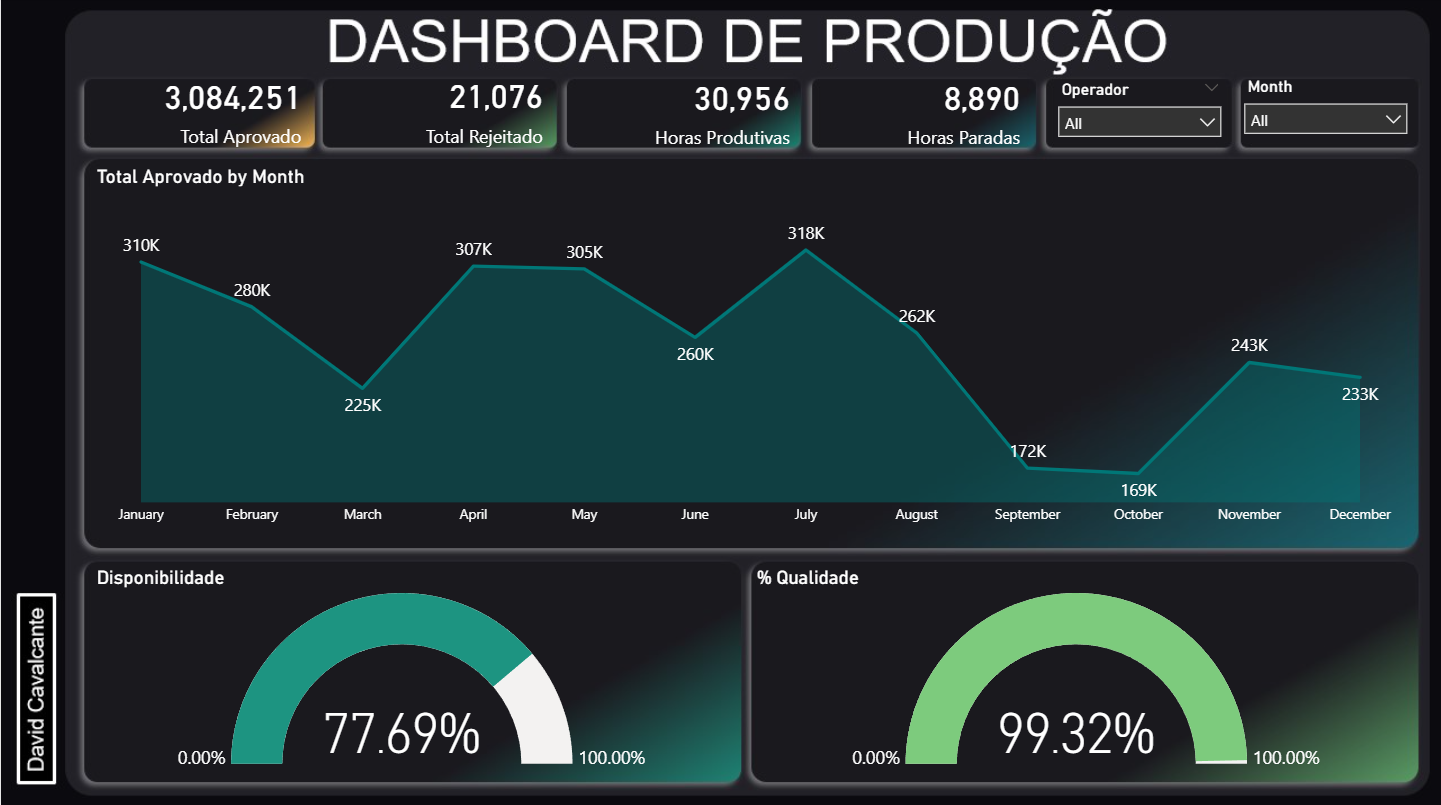

Layout of this report page (visuals, bound fields, positions):
{"tool":"powerbi","page":{"name":"Page 1","canvas":[1280,720],"ordinal":0},"visuals":[{"type":"cardVisual","fields":{"Data":["BaseProdução.Total Aprovado"]},"box":[64.9,46.2,219.6,112],"z":0},{"type":"cardVisual","fields":{"Data":["BaseProdução.Total Rejeitado"]},"box":[266.7,35.6,232,132.4],"z":1000},{"type":"cardVisual","fields":{"Data":["BaseProdução.Horas Produtivas"]},"box":[510.2,55.1,208.9,93.3],"z":2000},{"type":"cardVisual","fields":{"Data":["BaseProdução.Horas Paradas"]},"box":[752.9,55.1,170.7,86.2],"z":3000},{"type":"areaChart","fields":{"Y":["BaseProdução.Total Aprovado"],"Category":["BaseProdução.Data Inicio.Variation.Date Hierarchy.Month"]},"box":[80,148.4,1172.4,328.9],"z":4000},{"type":"gauge","fields":{"Y":["BaseProdução.Disponibilidade"]},"box":[80,504.9,569.8,185.8],"z":5000},{"type":"gauge","fields":{"Y":["BaseProdução.% Qualidade"]},"box":[666.7,504.9,595.6,185.8],"z":6000},{"type":"slicer","fields":{"Values":["BaseProdução.Operador"]},"box":[929.8,68.4,165.3,72.9],"z":7000},{"type":"slicer","fields":{"Values":["BaseProdução.Data Inicio.Variation.Date Hierarchy.Month"]},"box":[1095.1,65.8,165.3,72.9],"z":8000},{"type":"image","box":[740,77.3,57.3,55.5],"z":9000},{"type":"image","box":[520.9,77.3,56.4,53.6],"z":10000},{"type":"image","box":[98.2,75.5,50,53.6],"z":11000},{"type":"image","box":[308.2,76.4,46.4,57.3],"z":12000}]}

Visuals, with their boxes in screenshot pixels (x1, y1, x2, y2), scaled from the page's 1280x720 canvas onto the 1441x805 screenshot:
cardVisual - BaseProdução.Total Aprovado: Rect(73, 52, 320, 177)
cardVisual - BaseProdução.Total Rejeitado: Rect(300, 40, 561, 188)
cardVisual - BaseProdução.Horas Produtivas: Rect(574, 62, 810, 166)
cardVisual - BaseProdução.Horas Paradas: Rect(848, 62, 1040, 158)
areaChart - BaseProdução.Total Aprovado x BaseProdução.Data Inicio.Variation.Date Hierarchy.Month: Rect(90, 166, 1410, 534)
gauge - BaseProdução.Disponibilidade: Rect(90, 565, 732, 772)
gauge - BaseProdução.% Qualidade: Rect(751, 565, 1421, 772)
slicer - BaseProdução.Operador: Rect(1047, 76, 1233, 158)
slicer - BaseProdução.Data Inicio.Variation.Date Hierarchy.Month: Rect(1233, 74, 1419, 155)
image: Rect(833, 86, 898, 148)
image: Rect(586, 86, 650, 146)
image: Rect(111, 84, 167, 144)
image: Rect(347, 85, 399, 149)
